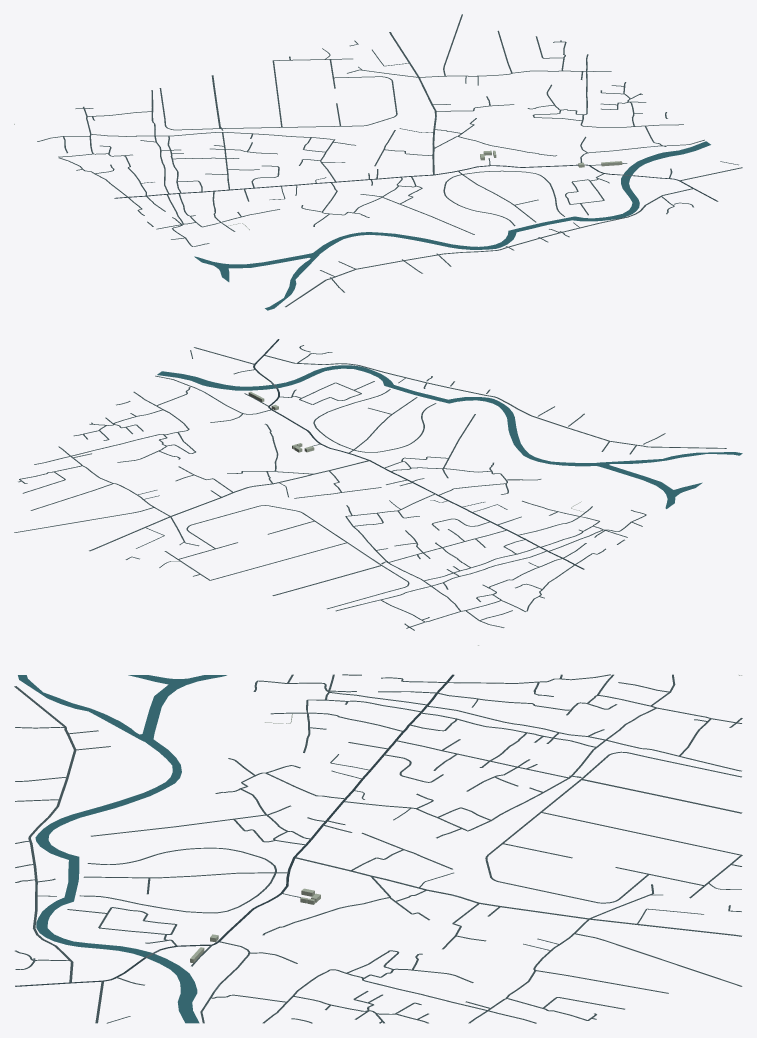
3 renders of one model, top to bottom at view 1: azimuth 30°, elevation 25°; view 2: azimuth 150°, elevation 25°; view 3: azimuth 270°, elevation 25°, orthographic. The views are drawn at different scales.
Visible parts, largest first — view 1: street, water, major; view 2: street, water, major; view 3: street, water, major.
Boxes of the visible parts, <box> form: street: <box>37,14,742,307</box>; water: <box>194,141,710,310</box>; major: <box>114,164,718,201</box>; street: <box>14,345,726,630</box>; water: <box>157,365,742,508</box>; major: <box>253,339,584,569</box>; street: <box>14,674,742,1023</box>; water: <box>18,675,226,1023</box>; major: <box>15,674,454,986</box>.
Size of the model in its own units: 2004 by 10.7 by 1767.
